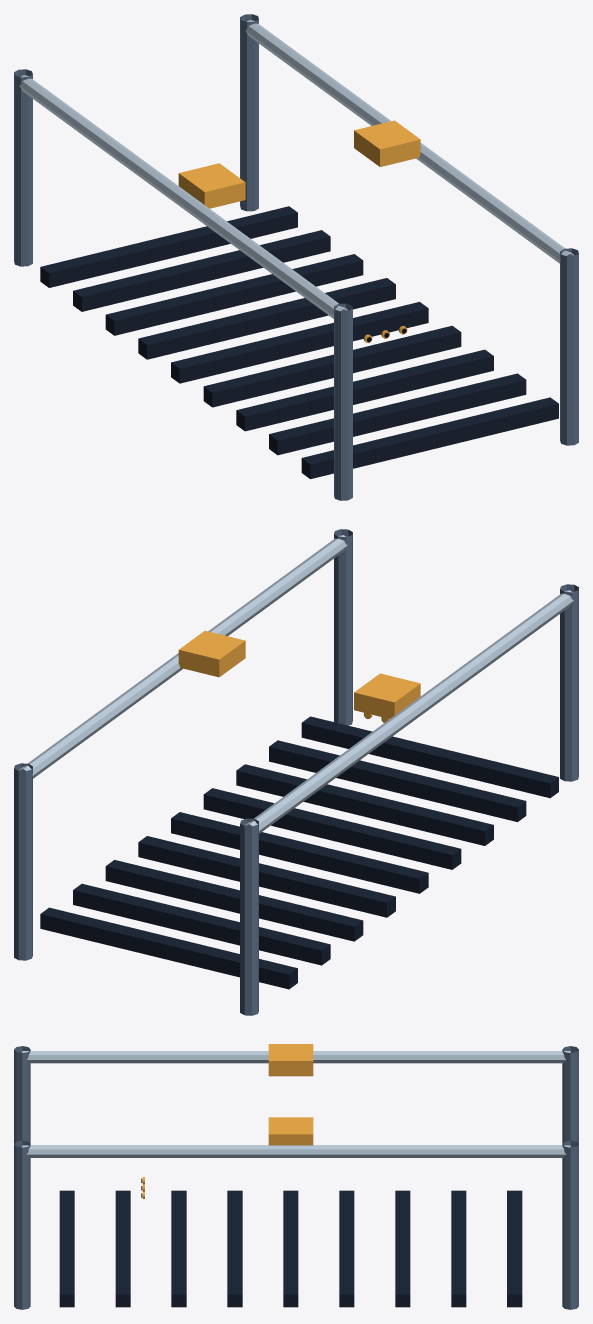
Rendered from 03_L90_Aurora1VehicleIntegrationStand.fbx.
The picture shows the model from 3 angles, top to bottom: view 1: azimuth 30°, elevation 25°; view 2: azimuth 150°, elevation 25°; view 3: azimuth 270°, elevation 25°; orthographic projection. The views are drawn at different scales.
Visible parts, largest first — view 1: L90_Aurora1VehicleIntegrationStand, L90_Aurora1VehicleIntegrationStand_Part_0002; view 2: L90_Aurora1VehicleIntegrationStand, L90_Aurora1VehicleIntegrationStand_Part_0002; view 3: L90_Aurora1VehicleIntegrationStand, L90_Aurora1VehicleIntegrationStand_Part_0002.
Part boxes in pixels (bbox=[...]): L90_Aurora1VehicleIntegrationStand: bbox=[14, 14, 578, 500]; L90_Aurora1VehicleIntegrationStand_Part_0002: bbox=[178, 120, 420, 208]; L90_Aurora1VehicleIntegrationStand: bbox=[14, 529, 578, 1015]; L90_Aurora1VehicleIntegrationStand_Part_0002: bbox=[178, 630, 420, 718]; L90_Aurora1VehicleIntegrationStand: bbox=[14, 1046, 578, 1309]; L90_Aurora1VehicleIntegrationStand_Part_0002: bbox=[268, 1044, 313, 1145].
Size of the model in its own units: 440 by 335 by 1010.
